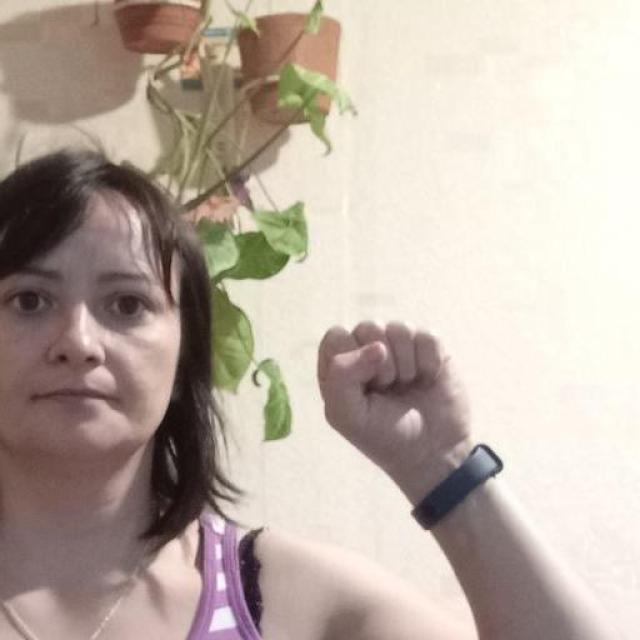hand: (315, 318, 474, 502)
